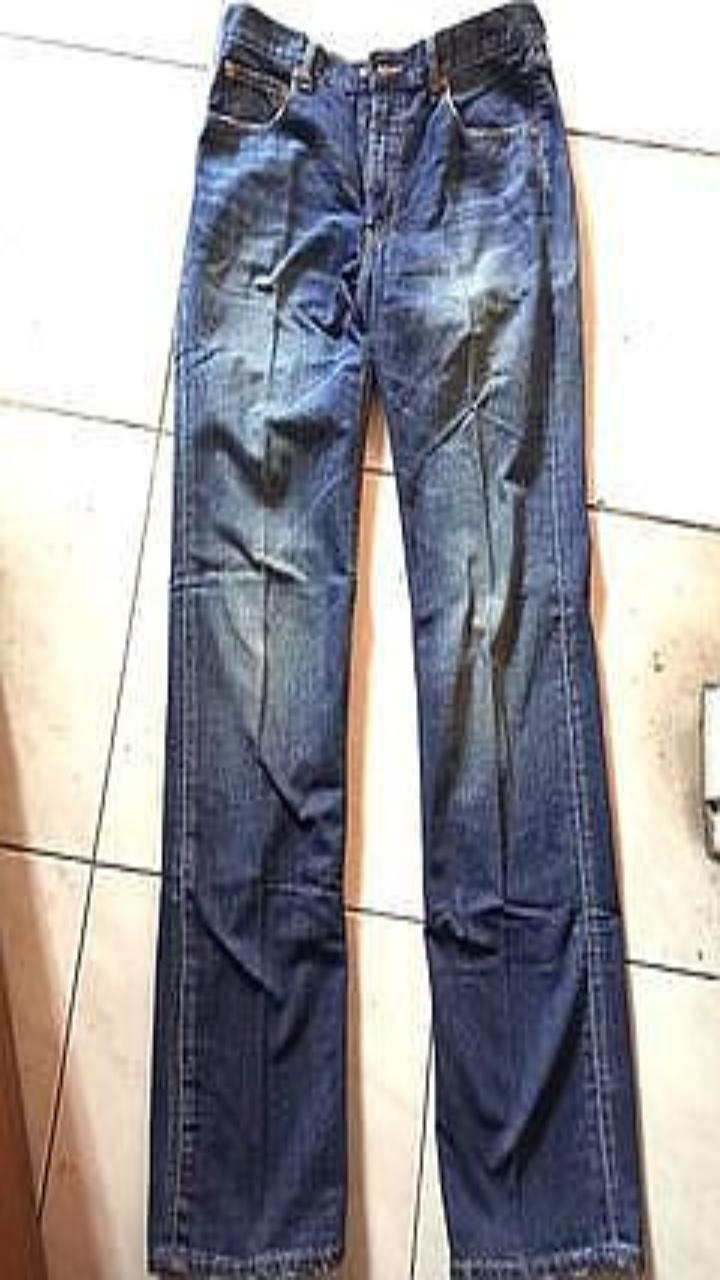Jeans: (147, 3, 642, 1279)
